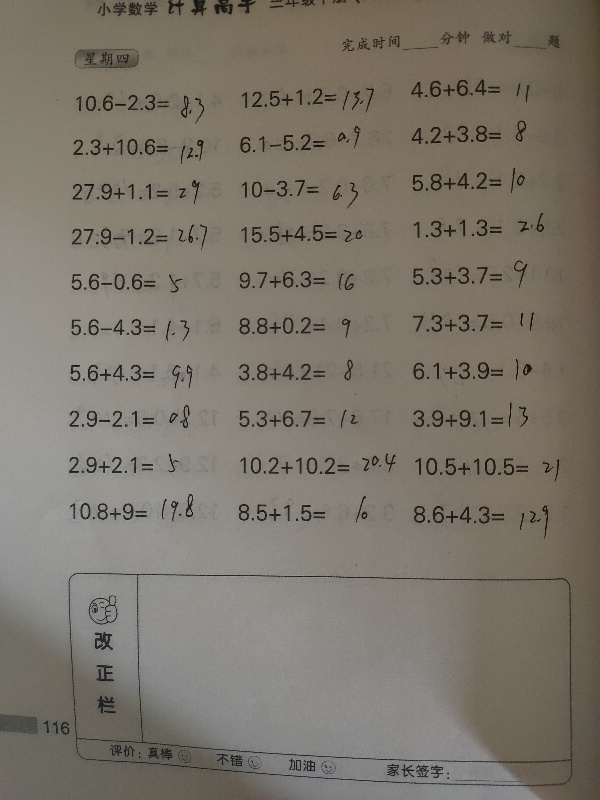equation: (399, 493, 571, 543), (412, 443, 572, 492), (229, 445, 405, 485), (399, 255, 545, 301), (68, 129, 216, 172), (59, 357, 201, 401), (61, 216, 217, 256), (412, 352, 549, 396), (233, 117, 369, 161), (231, 219, 377, 259), (232, 353, 368, 395), (229, 171, 369, 211), (69, 87, 217, 124), (401, 76, 541, 113), (68, 176, 207, 212), (241, 83, 385, 117), (412, 305, 544, 341), (235, 495, 376, 528), (227, 405, 372, 437), (66, 494, 198, 529), (227, 308, 363, 341), (408, 211, 561, 239), (409, 403, 541, 435), (210, 265, 357, 293), (59, 404, 205, 432), (408, 120, 535, 151), (405, 169, 545, 197), (67, 314, 193, 343), (67, 269, 190, 295), (65, 450, 182, 477)
